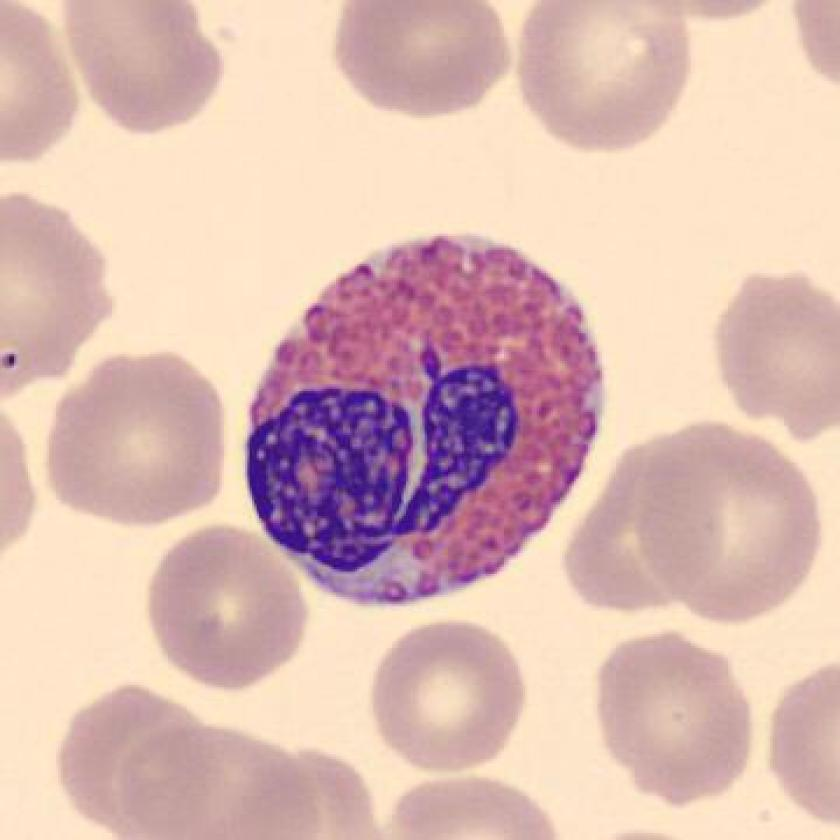eosinophil: (232, 221, 617, 616)
